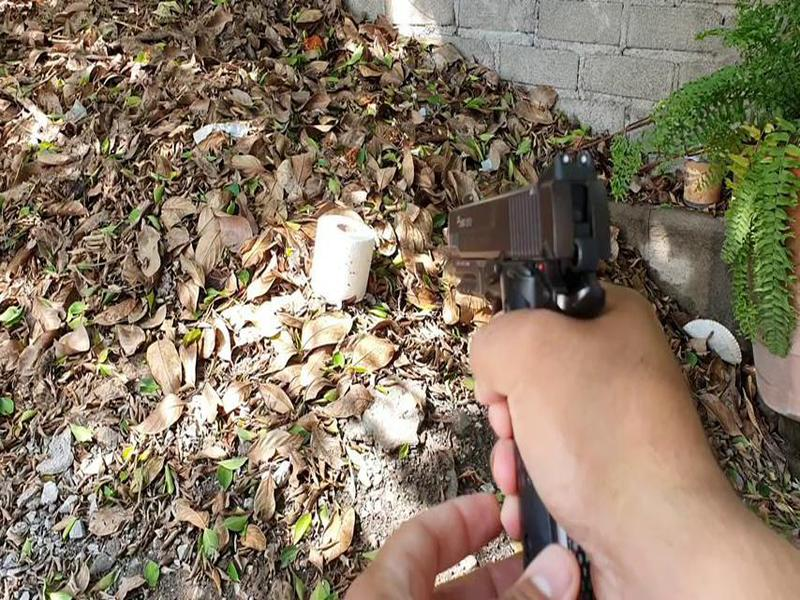Pistola: (426, 154, 628, 393)
